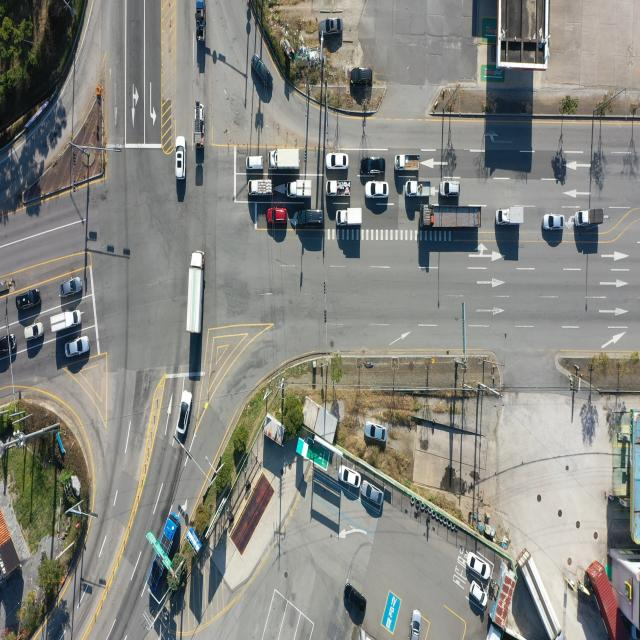car: (251, 53, 274, 88), (342, 582, 366, 614), (176, 391, 192, 436), (470, 553, 492, 580), (294, 208, 322, 228), (361, 483, 384, 507), (65, 338, 89, 360), (340, 464, 362, 488), (471, 582, 489, 609), (16, 290, 40, 310), (175, 136, 186, 179), (61, 277, 84, 297), (364, 422, 386, 442), (326, 154, 348, 172), (322, 18, 343, 36), (352, 67, 373, 85), (363, 156, 385, 173), (24, 322, 44, 340), (365, 182, 387, 198), (442, 180, 462, 197), (544, 214, 565, 230), (267, 208, 288, 224), (0, 337, 16, 358), (411, 610, 422, 640), (246, 156, 264, 172)
large_bus: (150, 512, 180, 588)
medium_truck: (520, 546, 564, 637), (188, 249, 206, 335), (420, 208, 480, 230), (271, 149, 302, 172)
small_truck: (51, 310, 82, 333), (572, 209, 602, 229), (495, 207, 524, 227), (194, 100, 206, 146), (338, 208, 363, 228), (288, 179, 314, 198), (248, 178, 274, 196), (195, 0, 206, 40), (328, 182, 352, 200), (406, 180, 430, 197), (394, 154, 418, 168)
